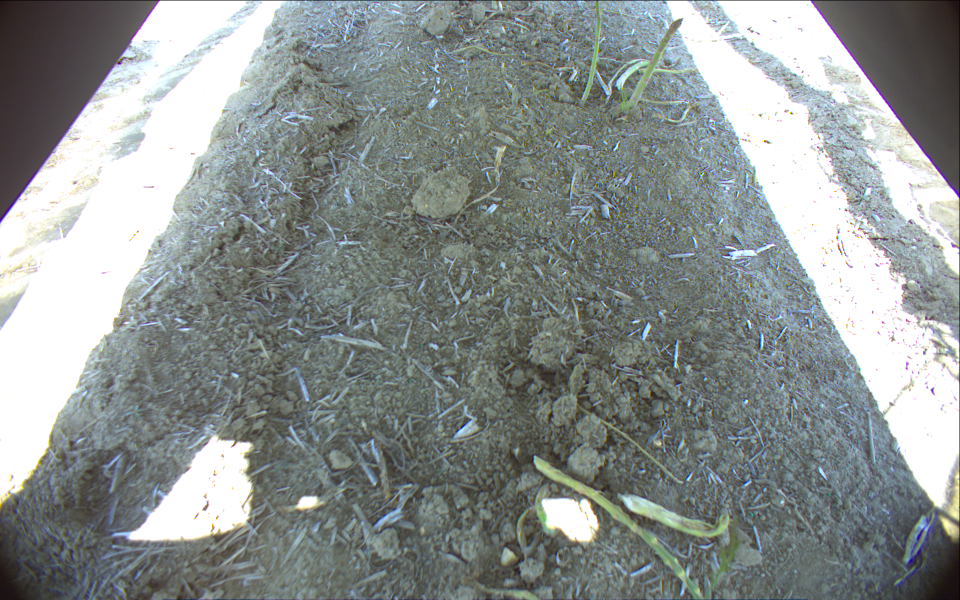aspa: (625, 15, 684, 110), (580, 1, 605, 108)
